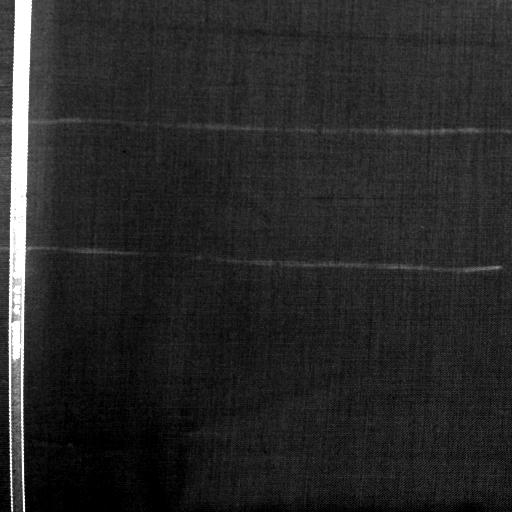fabric_broken_pick: (286, 174, 430, 228)
